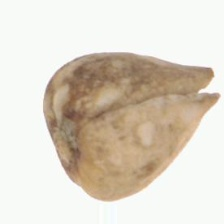L1: (44, 114, 78, 175), (189, 64, 221, 106)
L2: (43, 50, 221, 202)
